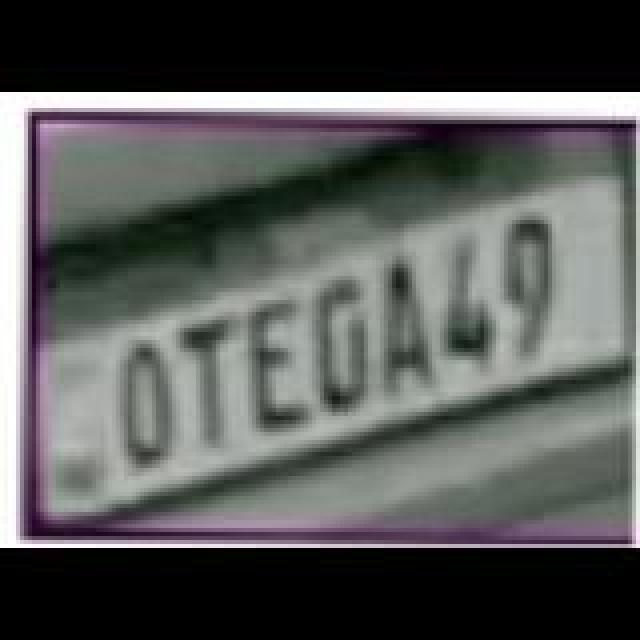4: (444, 236, 500, 372)
9: (504, 218, 560, 358)
A: (380, 260, 436, 396)
D: (314, 280, 374, 416)
E: (248, 300, 312, 436)
O: (118, 338, 178, 470)
T: (182, 318, 242, 450)
